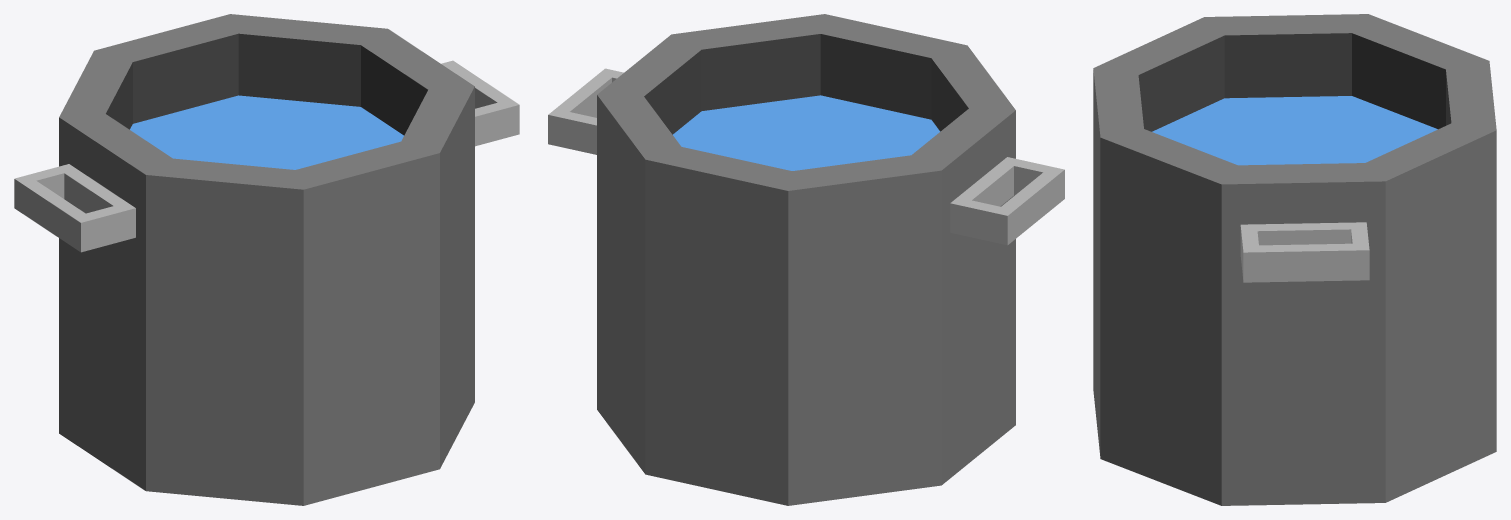
The model's file is StovePot-Filled.fbx.
3 renders of one model, left to right at view 1: azimuth 30°, elevation 25°; view 2: azimuth 150°, elevation 25°; view 3: azimuth 270°, elevation 25°, orthographic. The views are drawn at different scales.
Parts seen in each view (by area): view 1: StovePot-Filled; view 2: StovePot-Filled; view 3: StovePot-Filled.
Boxes of the visible parts, bbox=[...] form: StovePot-Filled: bbox=[14, 14, 519, 505]; StovePot-Filled: bbox=[548, 14, 1064, 505]; StovePot-Filled: bbox=[1093, 14, 1496, 505].
Size of the model in its own units: 25.21 by 16.75 by 19.04.
